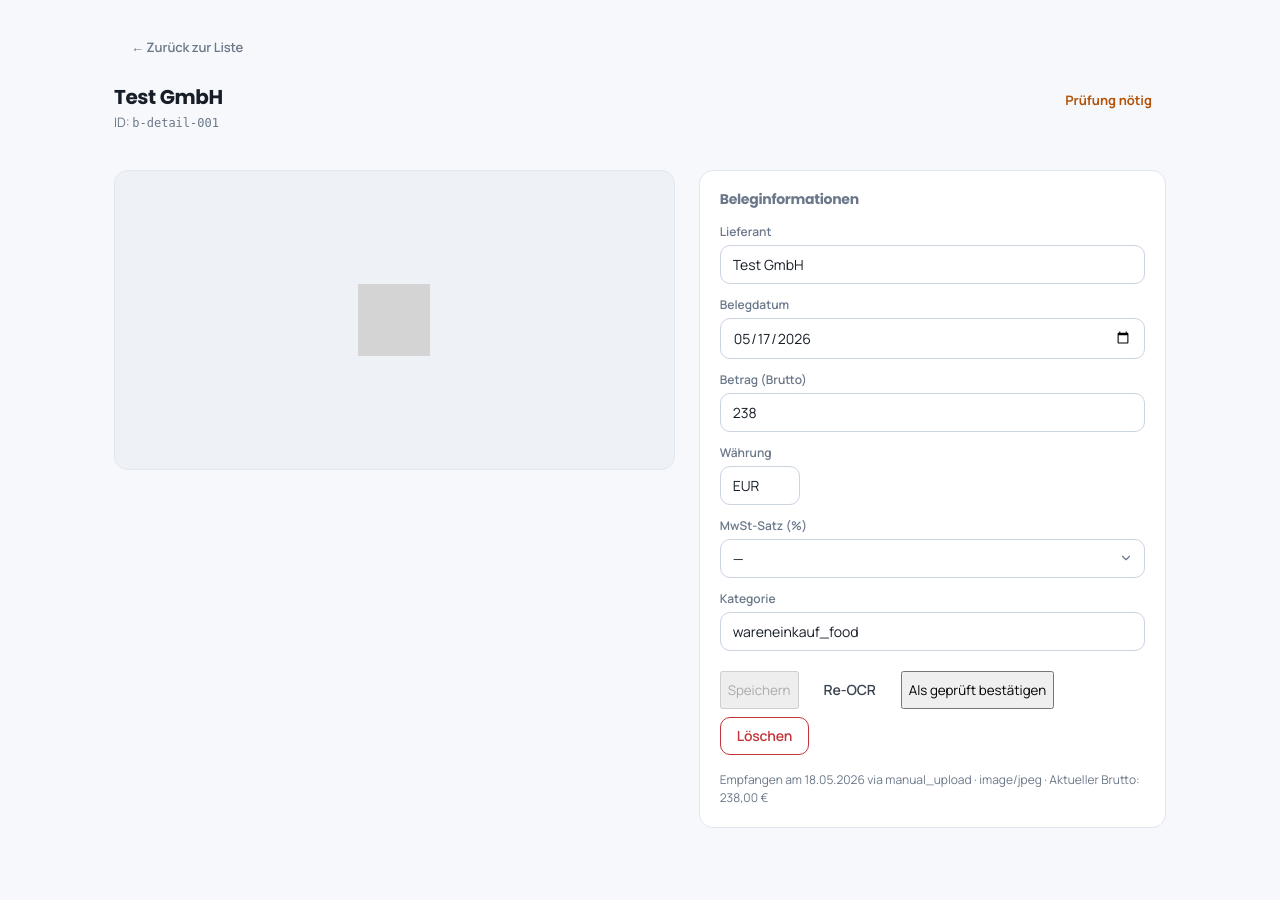
Test: BelegeDetailPage › T078: Bestätigen bei ungespeicherten Änderungen gesperrt
Check: the button with test id "btn-confirm-review" is enabled, box [901,671,1054,709]
Replace the text in the field with test id "field-supplier_name" with "Geändert" at (932,264), box [720,245,1145,284]
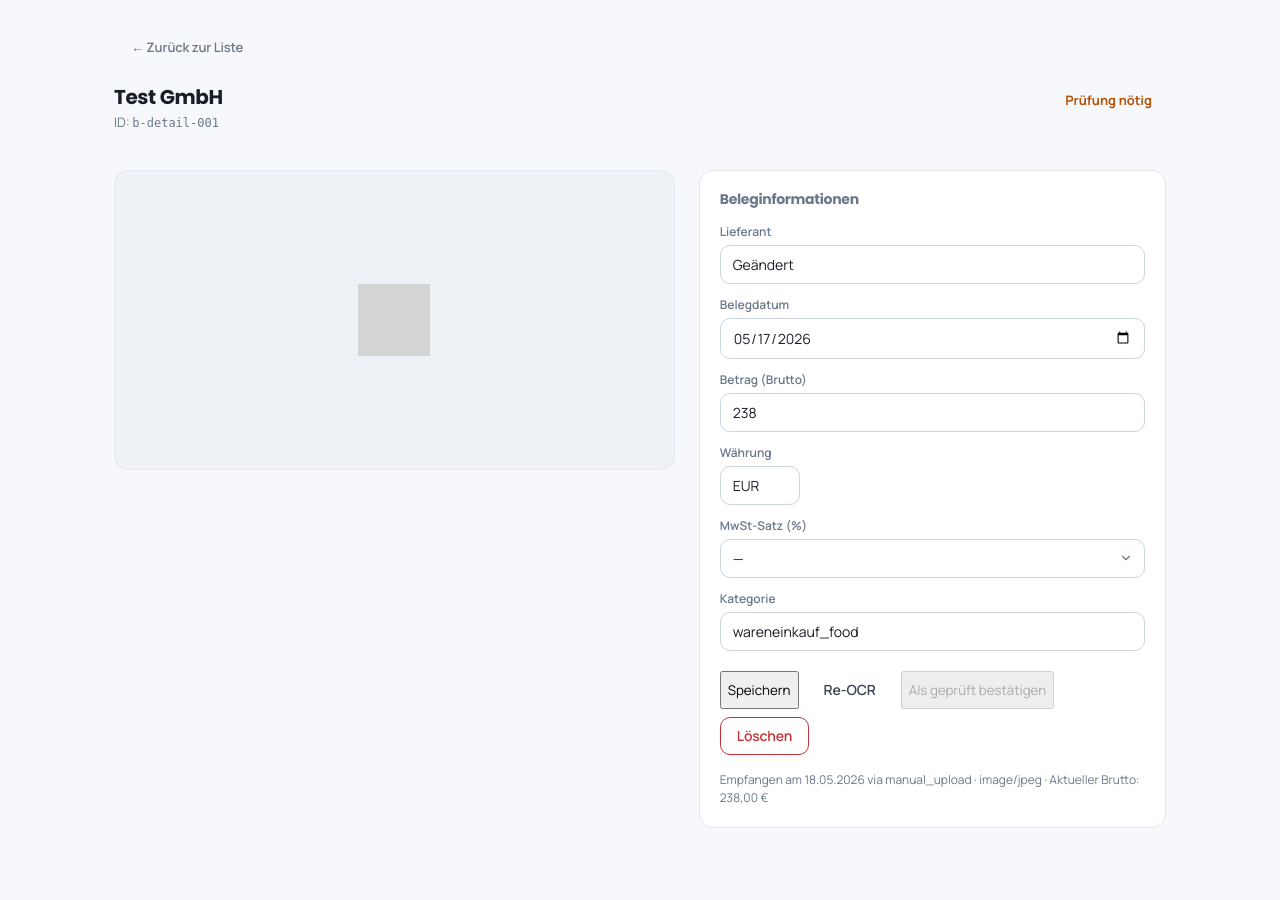
Check: the button with test id "btn-confirm-review" is disabled, box [901,671,1054,709]
